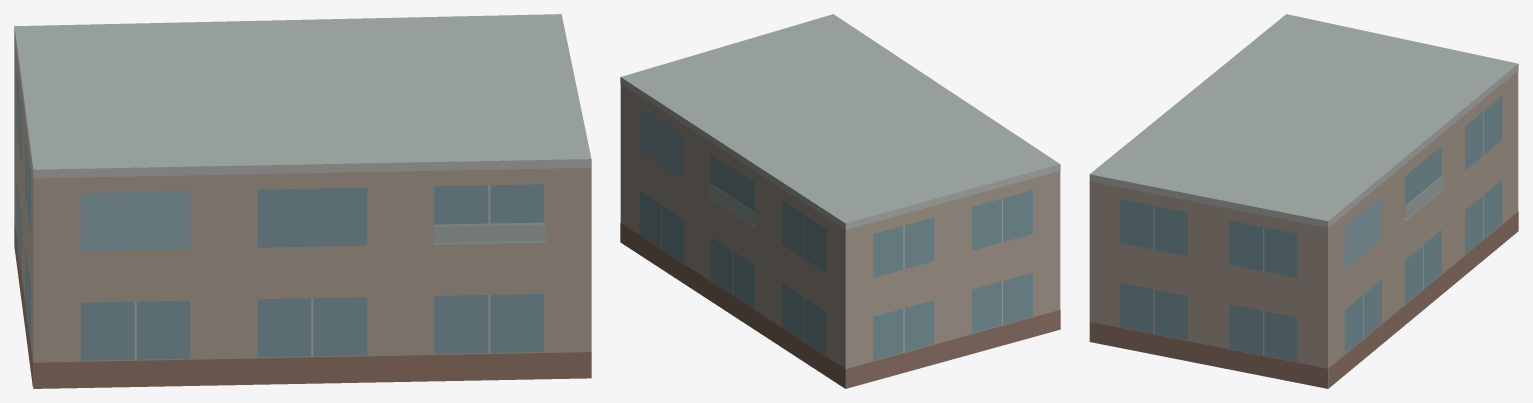
Rendered from survey-upis-32817828.glb.
3 renders of one model, left to right at view 1: azimuth 30°, elevation 25°; view 2: azimuth 150°, elevation 25°; view 3: azimuth 270°, elevation 25°, orthographic. The views are drawn at different scales.
Parts seen in each view (by area): view 1: survey-upis-32817828.tmp; view 2: survey-upis-32817828.tmp; view 3: survey-upis-32817828.tmp.
Part boxes in pixels (x1,y1,x2,y2): survey-upis-32817828.tmp: [14, 14, 591, 388]; survey-upis-32817828.tmp: [620, 14, 1060, 388]; survey-upis-32817828.tmp: [1089, 14, 1518, 388].
Size of the model in its own units: 16.19 by 6.1 by 14.16.
